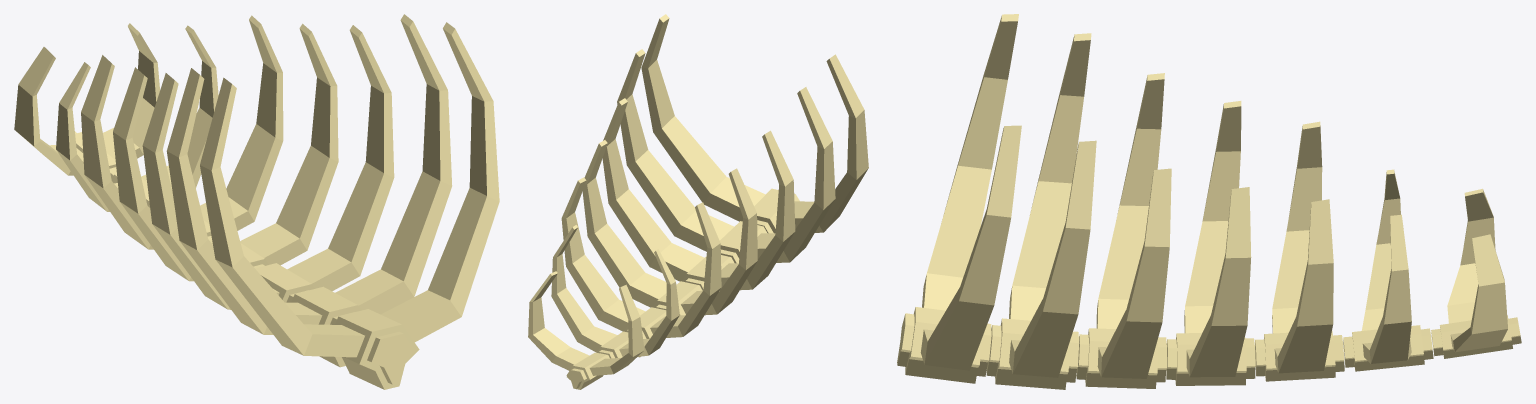
File: Ribcage02.FBX
3 views of the same model, side by side, from view 1: azimuth 30°, elevation 25°; view 2: azimuth 150°, elevation 25°; view 3: azimuth 270°, elevation 25° (orthographic). The views are drawn at different scales.
Parts seen in each view (by area): view 1: Ribcage02; view 2: Ribcage02; view 3: Ribcage02.
Part boxes in pixels (x1,y1,x2,y2): Ribcage02: [14, 14, 499, 389]; Ribcage02: [528, 14, 868, 389]; Ribcage02: [897, 14, 1521, 389].
Bounding box in the file's own units: 1.23 × 1.3 × 2.31.
1 material, 1 textured.
